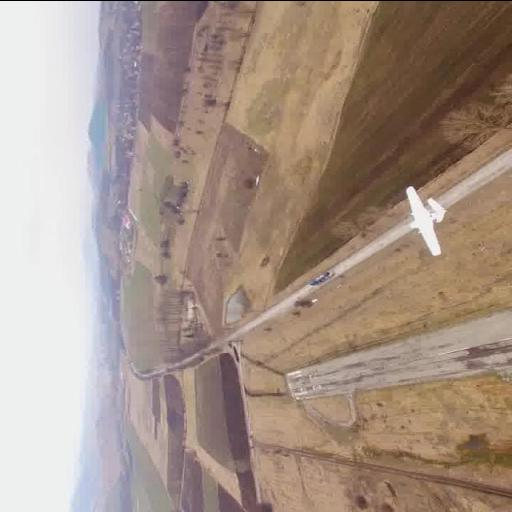uav: (388, 180, 466, 258)
